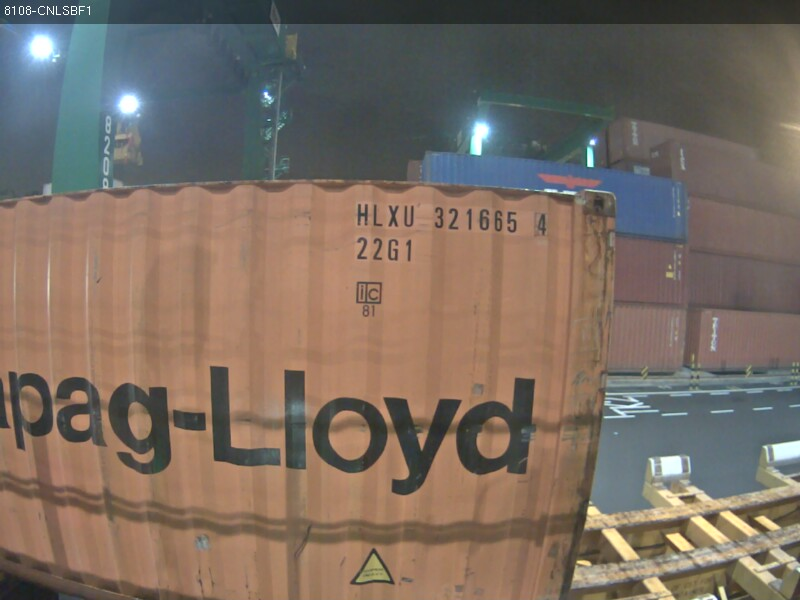container_no_door: (54, 172, 624, 591)
